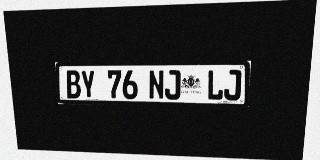6: (122, 70, 138, 99)
7: (106, 70, 122, 99)
B: (65, 70, 81, 98)
J: (224, 70, 242, 100), (165, 70, 181, 100)
L: (207, 70, 224, 100)
N: (148, 70, 164, 99)
Y: (80, 70, 96, 99)
